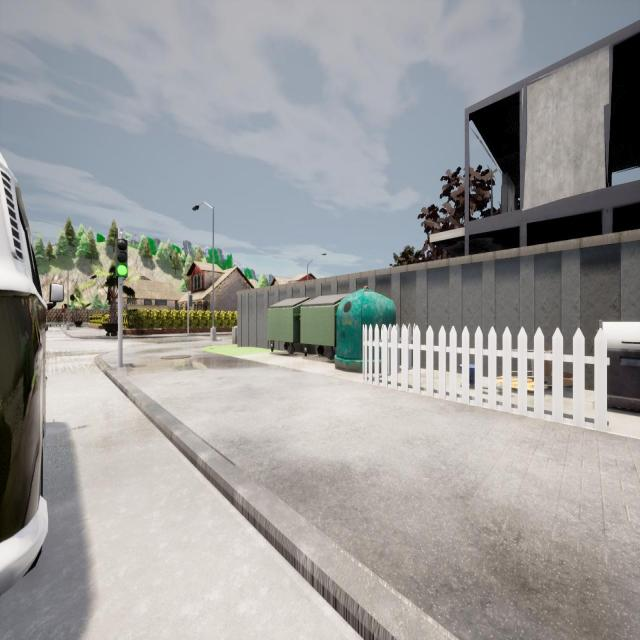Vehicle: (0, 146, 67, 593)
traffic_light: (116, 239, 128, 278), (189, 294, 192, 306), (62, 306, 65, 312)
